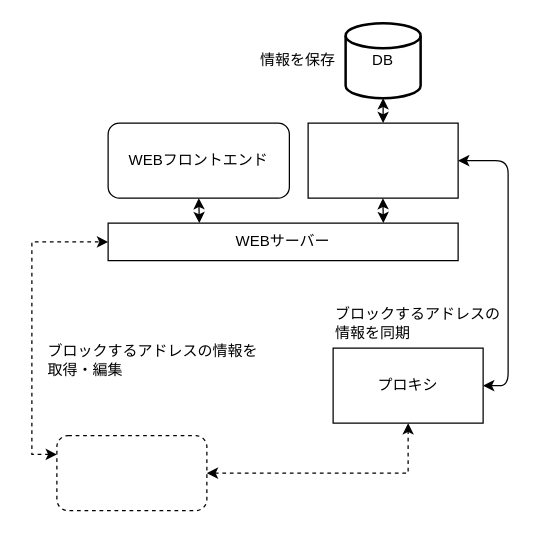
Image size: 541x533. Some labels were removed from this diagram. Here are the shapes that lost their labels. From the top down, the centre of each, then its label:
(x=382, y=160): ブロックアドレス 登録API
(x=131, y=472): クライアント
